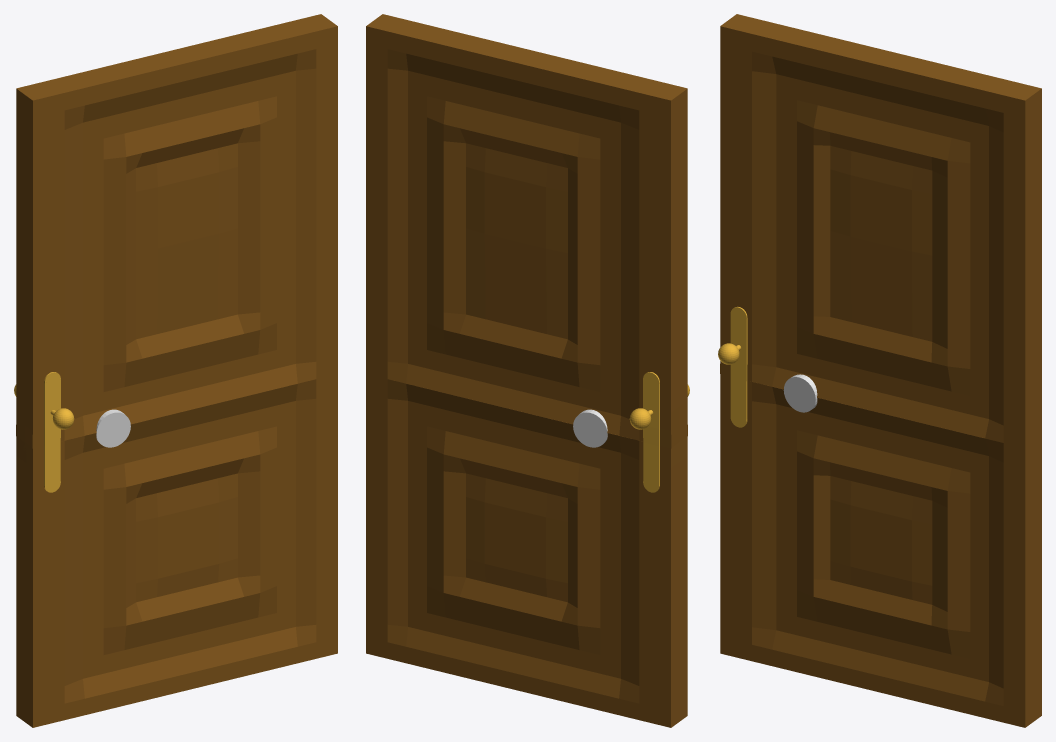
Rendered from door.fbx.
3 renders of one model, left to right at view 1: azimuth 30°, elevation 25°; view 2: azimuth 150°, elevation 25°; view 3: azimuth 330°, elevation 25°, orthographic.
Parts seen in each view (by area): view 1: Plane, Plane.003, Circle; view 2: Plane, Plane.003, Circle; view 3: Plane, Plane.003, Circle.
Boxes of the visible parts, bbox=[...] form: Plane: bbox=[16, 14, 337, 727]; Plane.003: bbox=[44, 372, 60, 492]; Circle: bbox=[96, 409, 130, 447]; Plane: bbox=[366, 14, 687, 727]; Plane.003: bbox=[643, 372, 659, 492]; Circle: bbox=[573, 409, 607, 447]; Plane: bbox=[720, 14, 1041, 727]; Plane.003: bbox=[730, 306, 747, 427]; Circle: bbox=[783, 374, 817, 412].
Bounding box in the file's own units: 243 × 477 × 68.19.
